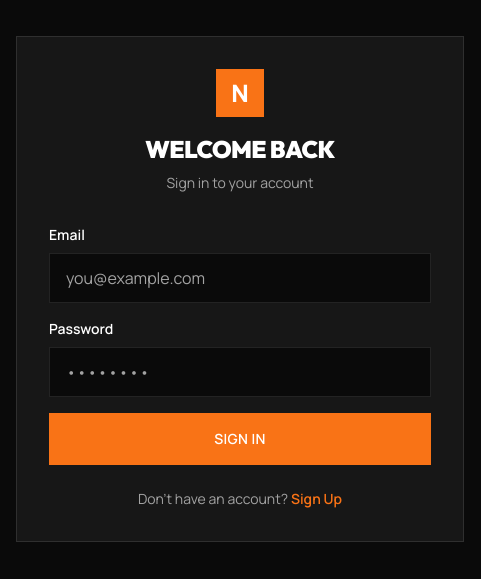
Test: Login Page › clears error message when user starts typing
This screenshot has width=481, height=579.
Note: Submit empty to trigger errors
Click the button with test id "submit-btn" at (240, 439), box [49,413,431,465]
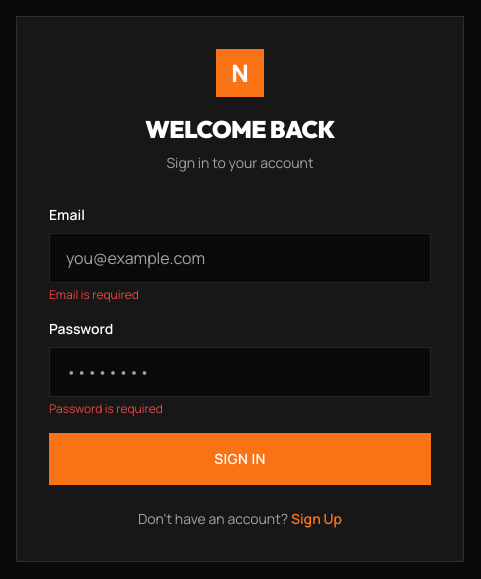
Result: the text "Email is required" is shown at [49,286,139,303]
Note: Start typing in email
Type "t" into the field with test id "email-input" at (240, 258), box [49,233,431,283]
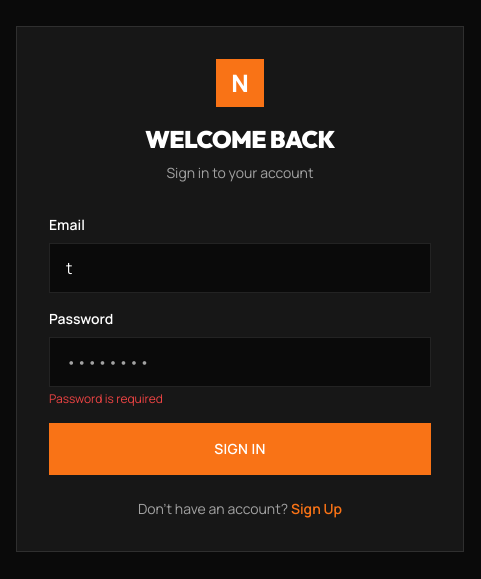
Result: the text with test id "email-error" is gone
